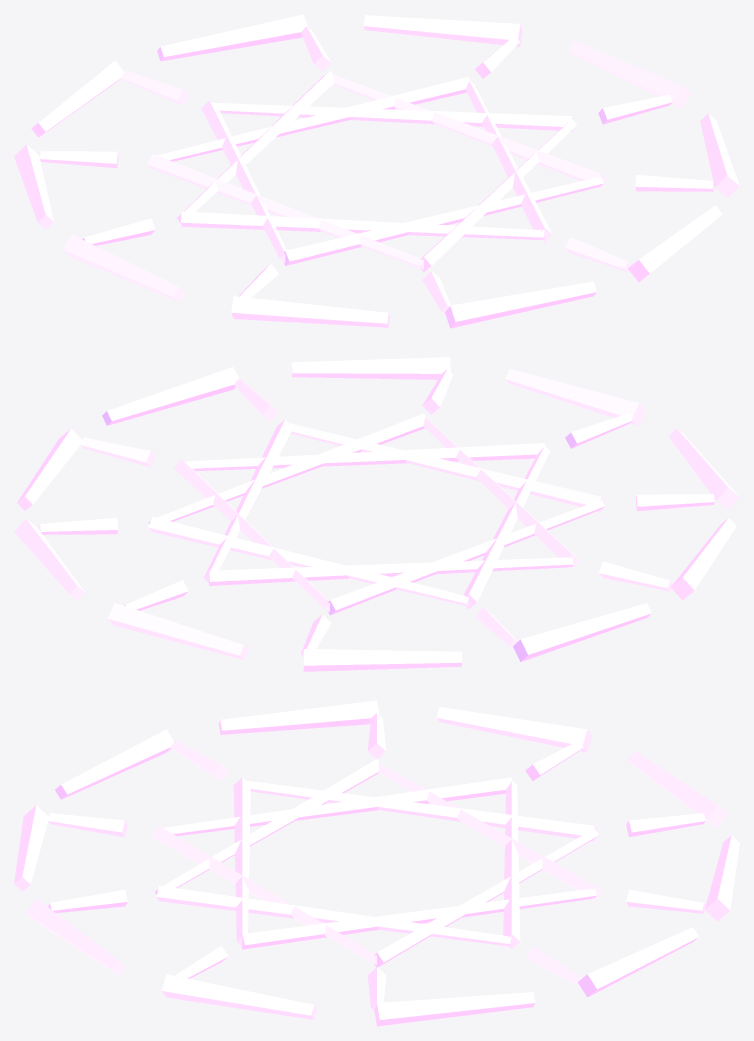
File: arcane_glyph_b.glb
3 views of the same model, one above another, from view 1: azimuth 30°, elevation 25°; view 2: azimuth 150°, elevation 25°; view 3: azimuth 270°, elevation 25° (orthographic).
Visible parts, largest first — view 1: arcane_glyph_b; view 2: arcane_glyph_b; view 3: arcane_glyph_b.
Part boxes in pixels (<box>): arcane_glyph_b: <box>14,14,739,328</box>; arcane_glyph_b: <box>14,357,739,671</box>; arcane_glyph_b: <box>14,700,739,1026</box>.
Size of the model in its own units: 1.04 by 0.036 by 1.01.
